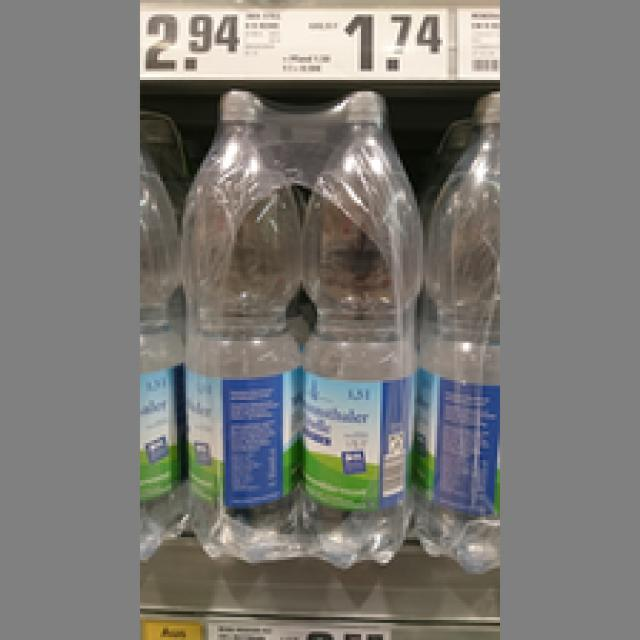groceries: (297, 91, 417, 572), (180, 86, 300, 554), (414, 86, 494, 571)
